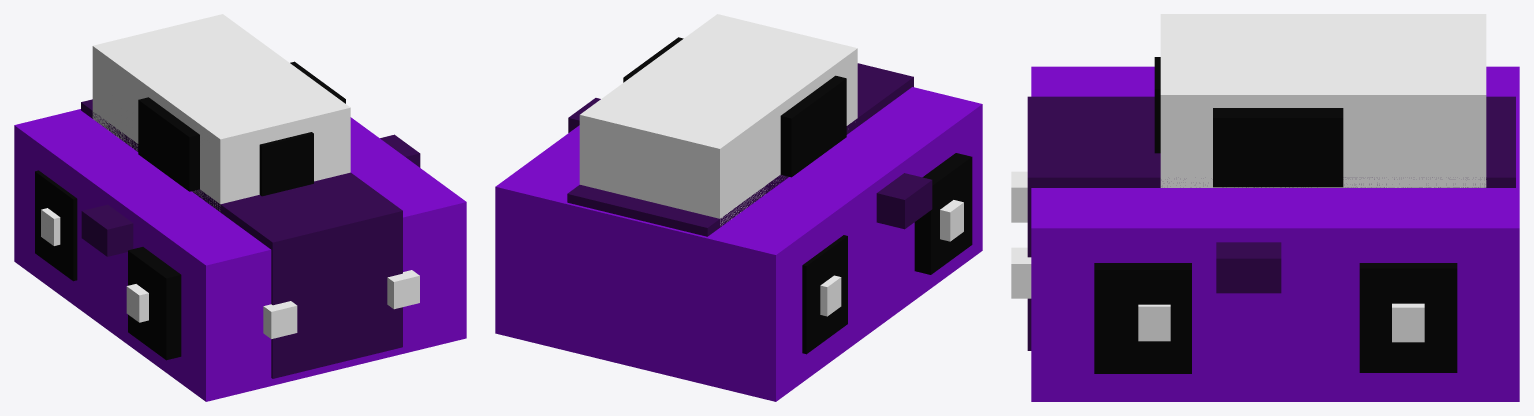
The model's file is other car.fbx.
The picture shows the model from 3 angles, left to right: view 1: azimuth 30°, elevation 25°; view 2: azimuth 150°, elevation 25°; view 3: azimuth 270°, elevation 25°; orthographic projection. The views are drawn at different scales.
Parts seen in each view (by area): view 1: body, top, middle_striped, front_wheel, side_window, back_wheel, front_window, wing_mirror, headlight_left, headlight_right, inner_front_wheel_, inner_back_wheel; view 2: body, top, middle_striped, side_window, front_wheel, back_wheel, wing_mirror, inner_front_wheel_, inner_back_wheel; view 3: body, top, middle_striped, side_window, front_wheel, back_wheel, wing_mirror, inner_back_wheel, inner_front_wheel_, headlight_right, headlight_left, front_window.
Boxes of the visible parts, <box> form: body: <box>14,109,466,401</box>; top: <box>92,14,350,210</box>; middle_striped: <box>81,99,402,378</box>; front_wheel: <box>128,247,181,360</box>; side_window: <box>138,61,345,191</box>; back_wheel: <box>35,170,77,281</box>; front_window: <box>259,132,313,196</box>; wing_mirror: <box>81,134,420,256</box>; headlight_left: <box>263,301,297,338</box>; headlight_right: <box>387,270,419,309</box>; inner_front_wheel_: <box>126,284,148,322</box>; inner_back_wheel: <box>41,208,60,245</box>; body: <box>495,87,982,401</box>; top: <box>579,14,857,225</box>; middle_striped: <box>567,63,913,236</box>; side_window: <box>623,37,846,177</box>; front_wheel: <box>914,153,972,274</box>; back_wheel: <box>802,235,847,354</box>; wing_mirror: <box>568,98,932,229</box>; inner_front_wheel_: <box>940,200,963,241</box>; inner_back_wheel: <box>820,275,841,316</box>; body: <box>1031,66,1519,401</box>; top: <box>1160,14,1486,187</box>; middle_striped: <box>1027,96,1515,350</box>; side_window: <box>1213,108,1343,187</box>; front_wheel: <box>1094,263,1191,373</box>; back_wheel: <box>1359,263,1457,372</box>; wing_mirror: <box>1216,242,1281,293</box>; inner_back_wheel: <box>1392,303,1424,342</box>; inner_front_wheel_: <box>1138,304,1170,341</box>; headlight_right: <box>1011,247,1031,298</box>; headlight_left: <box>1011,171,1027,222</box>; front_window: <box>1154,57,1160,153</box>.
Bounding box in the file's own units: 240 × 154 × 266.
